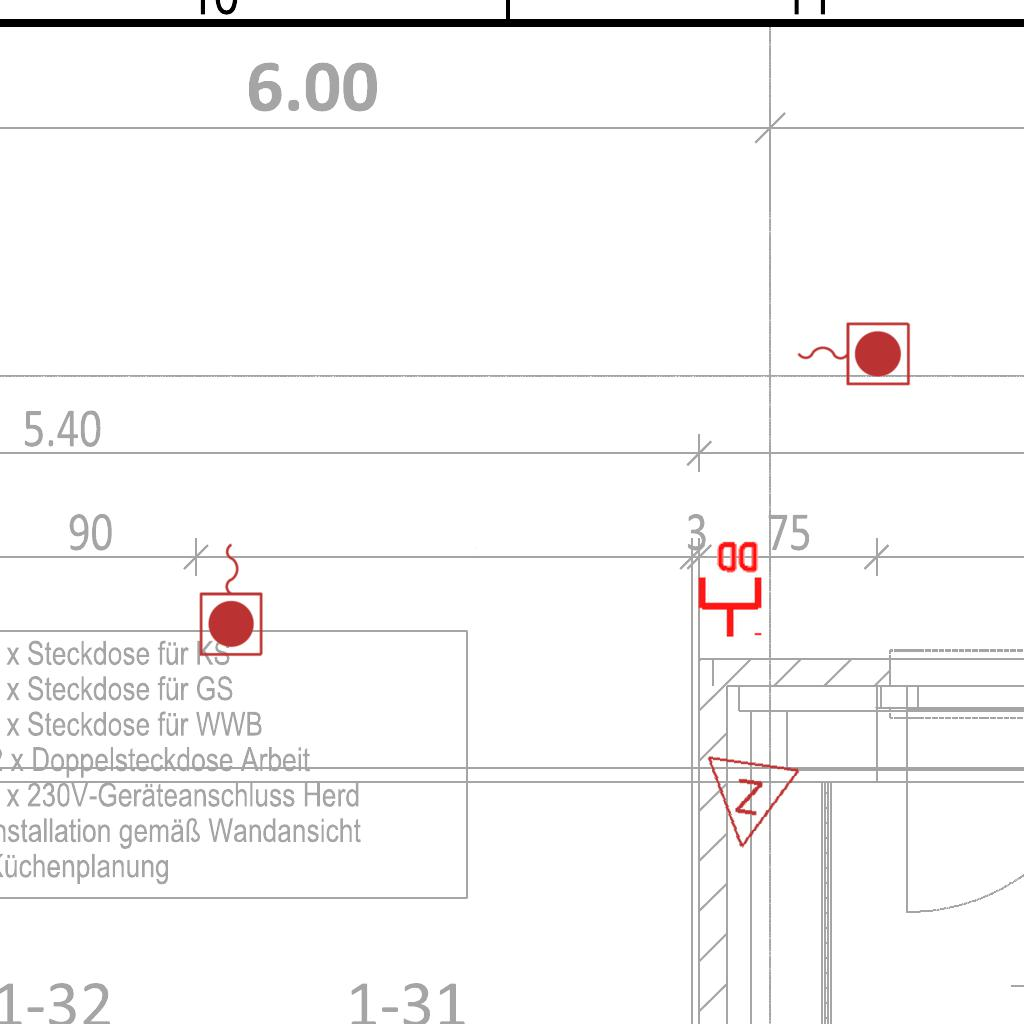Datenanschluss_zweifach: (694, 537, 763, 640)
Zimmersignalleuchte: (693, 748, 805, 862)
Zugtaster: (196, 538, 268, 660), (792, 317, 914, 389)
